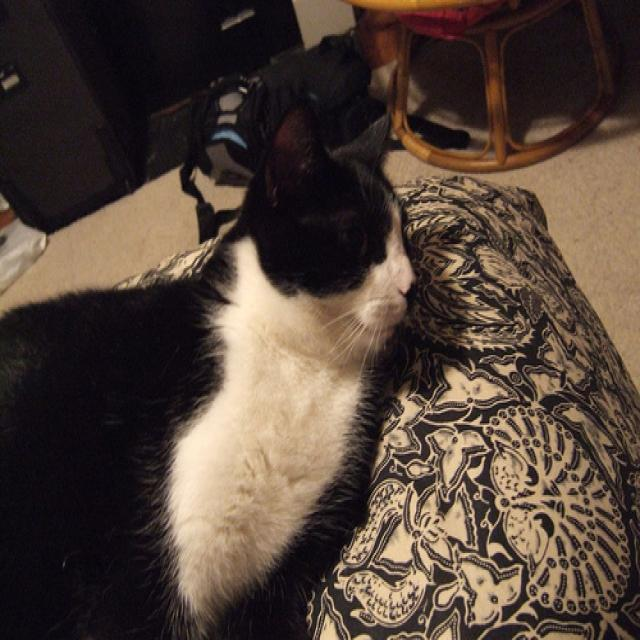cat: (1, 110, 418, 639)
